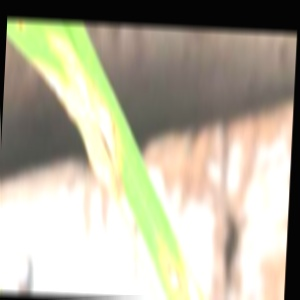Brown_Spot: (26, 36, 136, 191), (155, 251, 190, 296)
